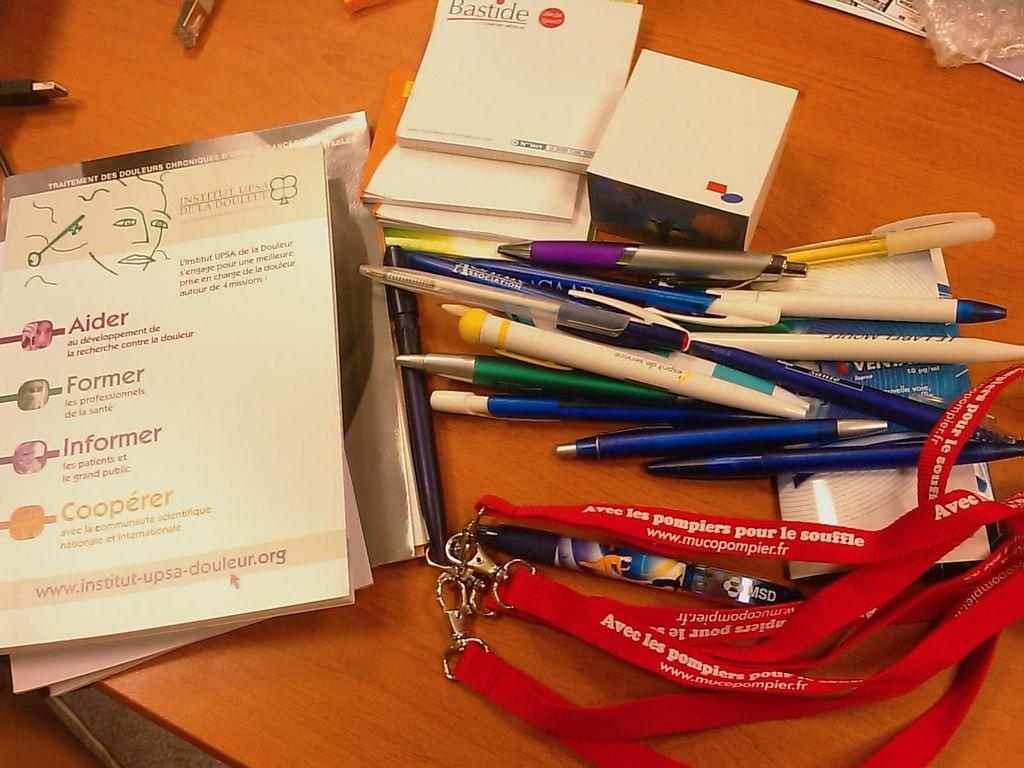pen: (361, 202, 1017, 493), (0, 78, 63, 103)
